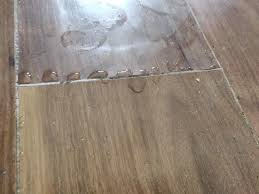Wet-floor: (15, 12, 254, 97)
